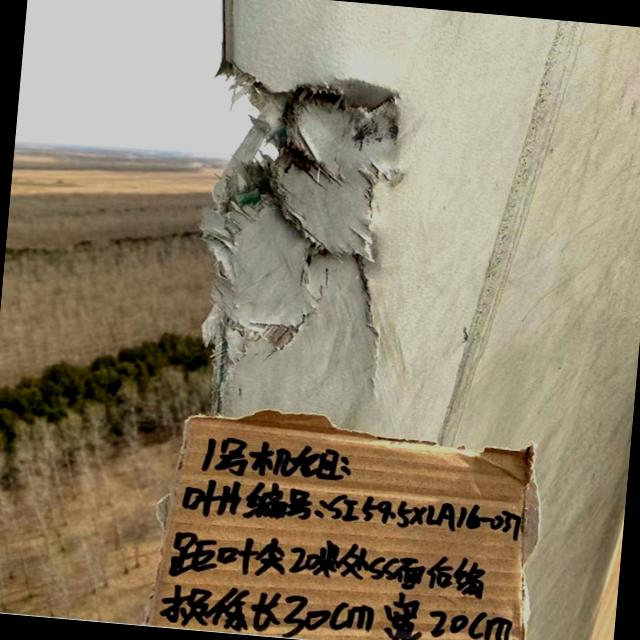crack: (178, 53, 432, 412)
